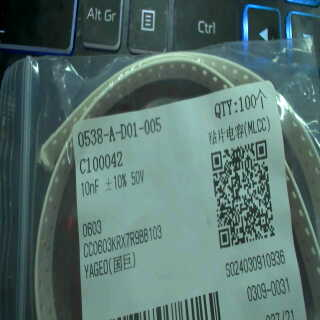10nF: (79, 179, 99, 197)
